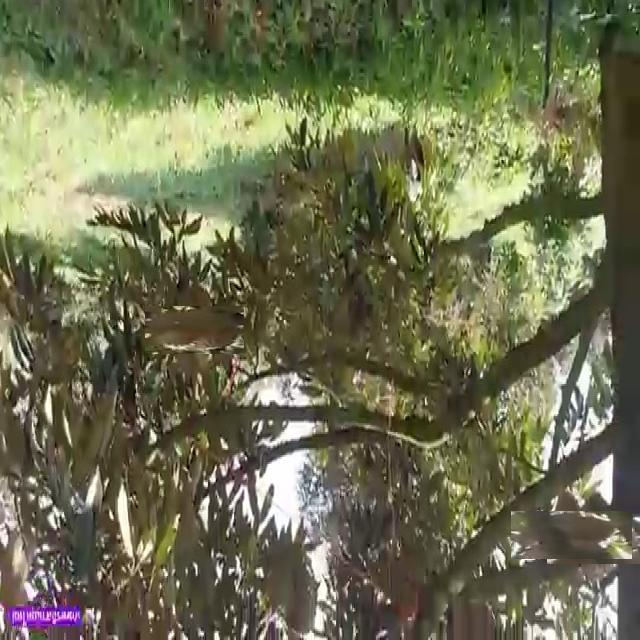durian: (530, 492, 614, 578), (559, 502, 634, 577), (158, 293, 232, 367)
